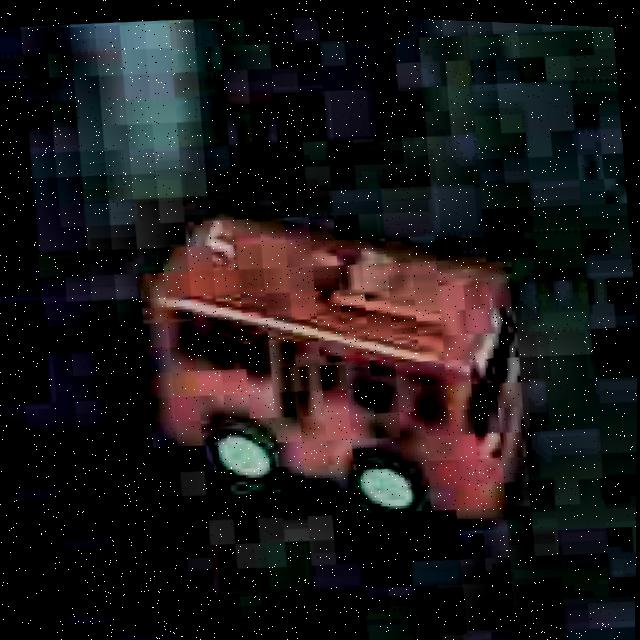bus: (130, 174, 546, 559)
